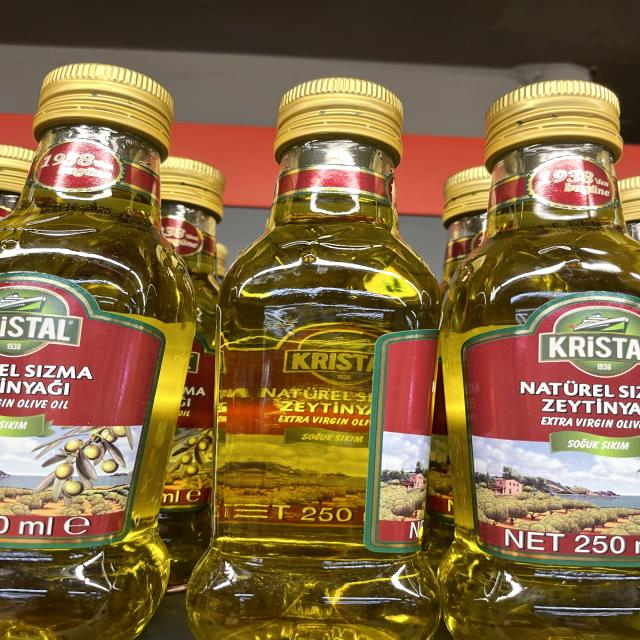olive oil: (199, 75, 449, 640), (0, 68, 192, 640), (452, 76, 640, 640)
